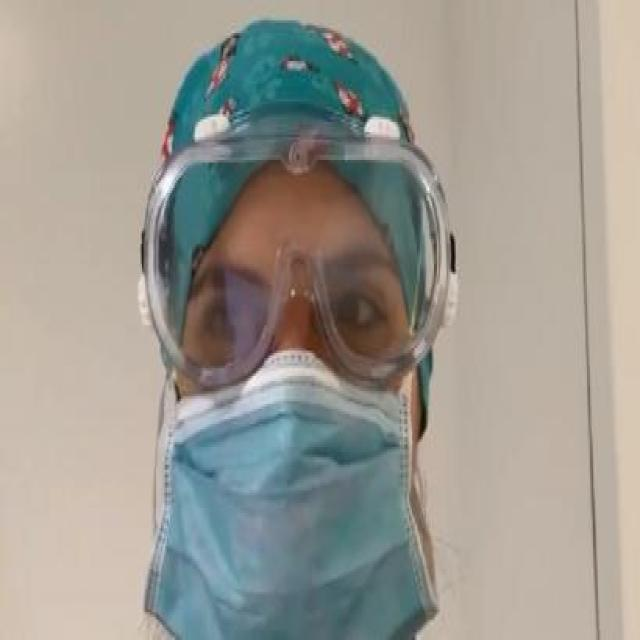Goggles: (134, 129, 451, 404)
Mask: (145, 356, 440, 638)
